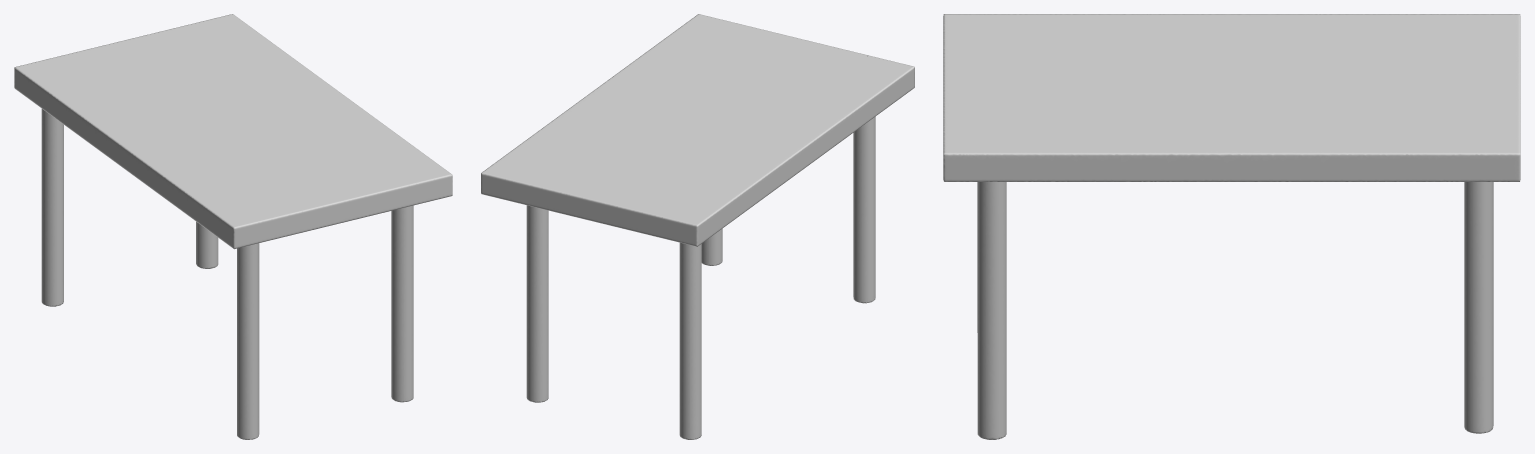
Rendered from longTable_compressed.glb.
3 renders of one model, left to right at view 1: azimuth 30°, elevation 25°; view 2: azimuth 150°, elevation 25°; view 3: azimuth 270°, elevation 25°, orthographic. The views are drawn at different scales.
Size of the model in its own units: 100 by 100 by 174.
1 material, 1 textured.
